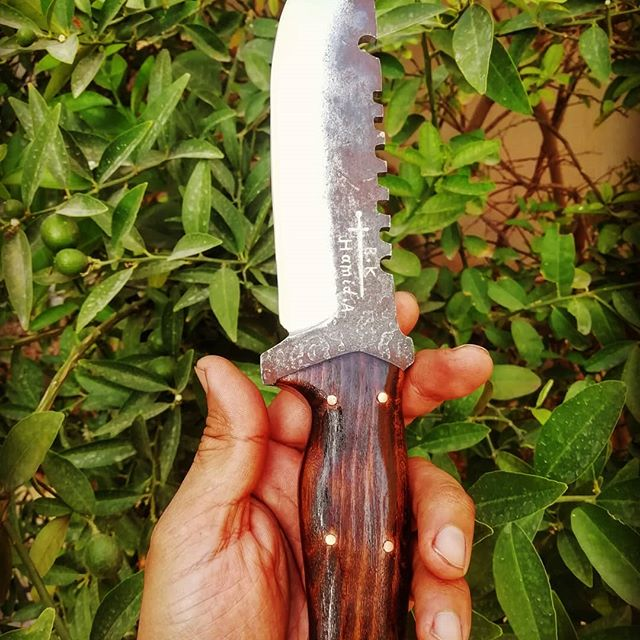knife: (257, 1, 417, 640)
